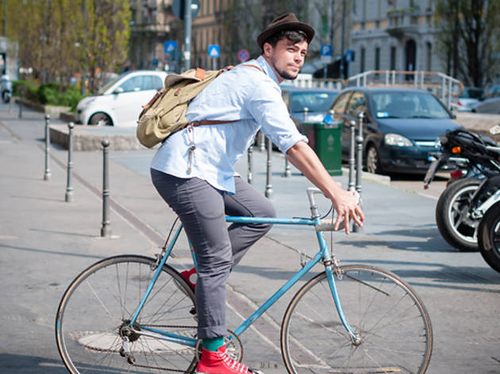bikerider: (47, 13, 438, 374)
